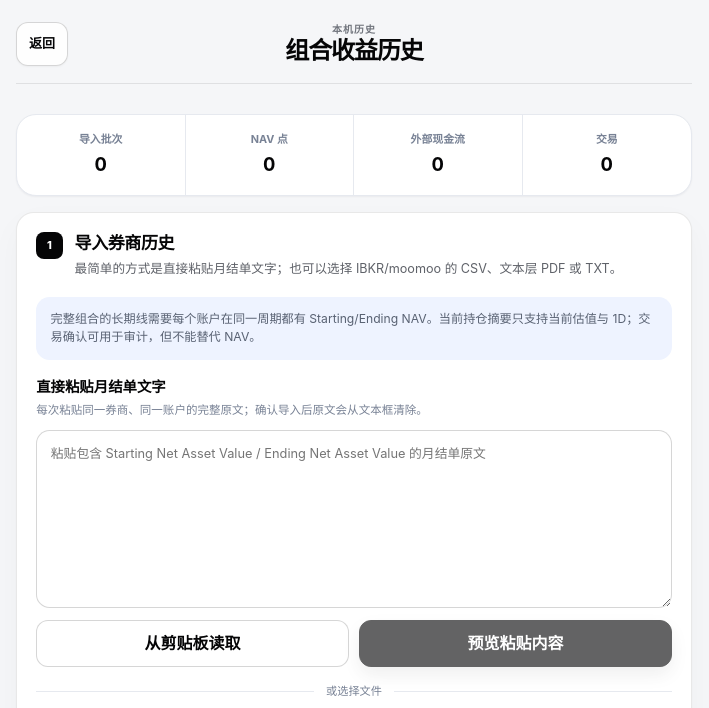
Scenario: PortfolioHistoryCenter › reads statement text from the clipboard after a user action
This screenshot has width=709, height=708.
Expected: the element named "历史数据概览" is shown, [16,114,692,196]
Step 1. Click the button "从剪贴板读取" → (192, 643), box [36,620,349,667]
(page scrolled)
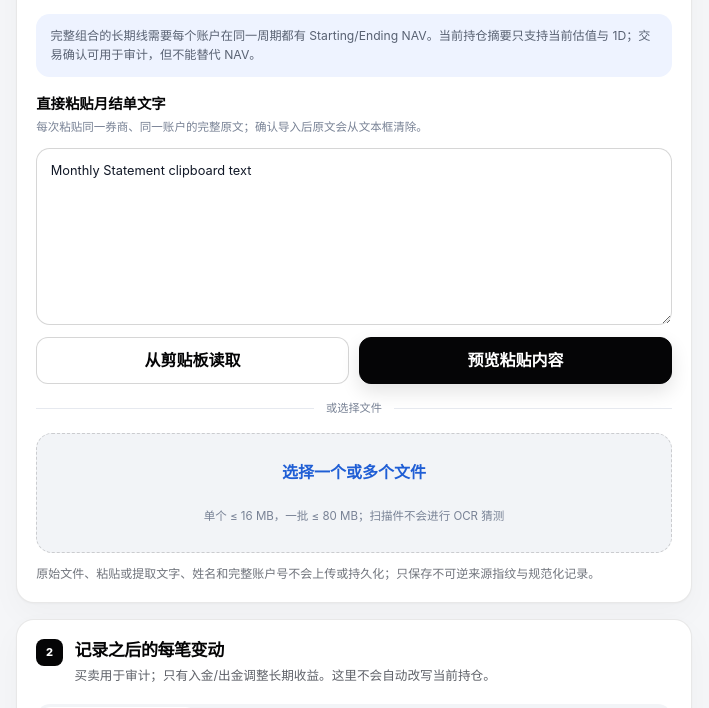
Expected: the text box with placeholder "Starting Net Asset Value" holds "Monthly Statement clipboard text", [36,148,672,325]
Expected: the button "预览粘贴内容" is enabled, [359,337,672,384]
